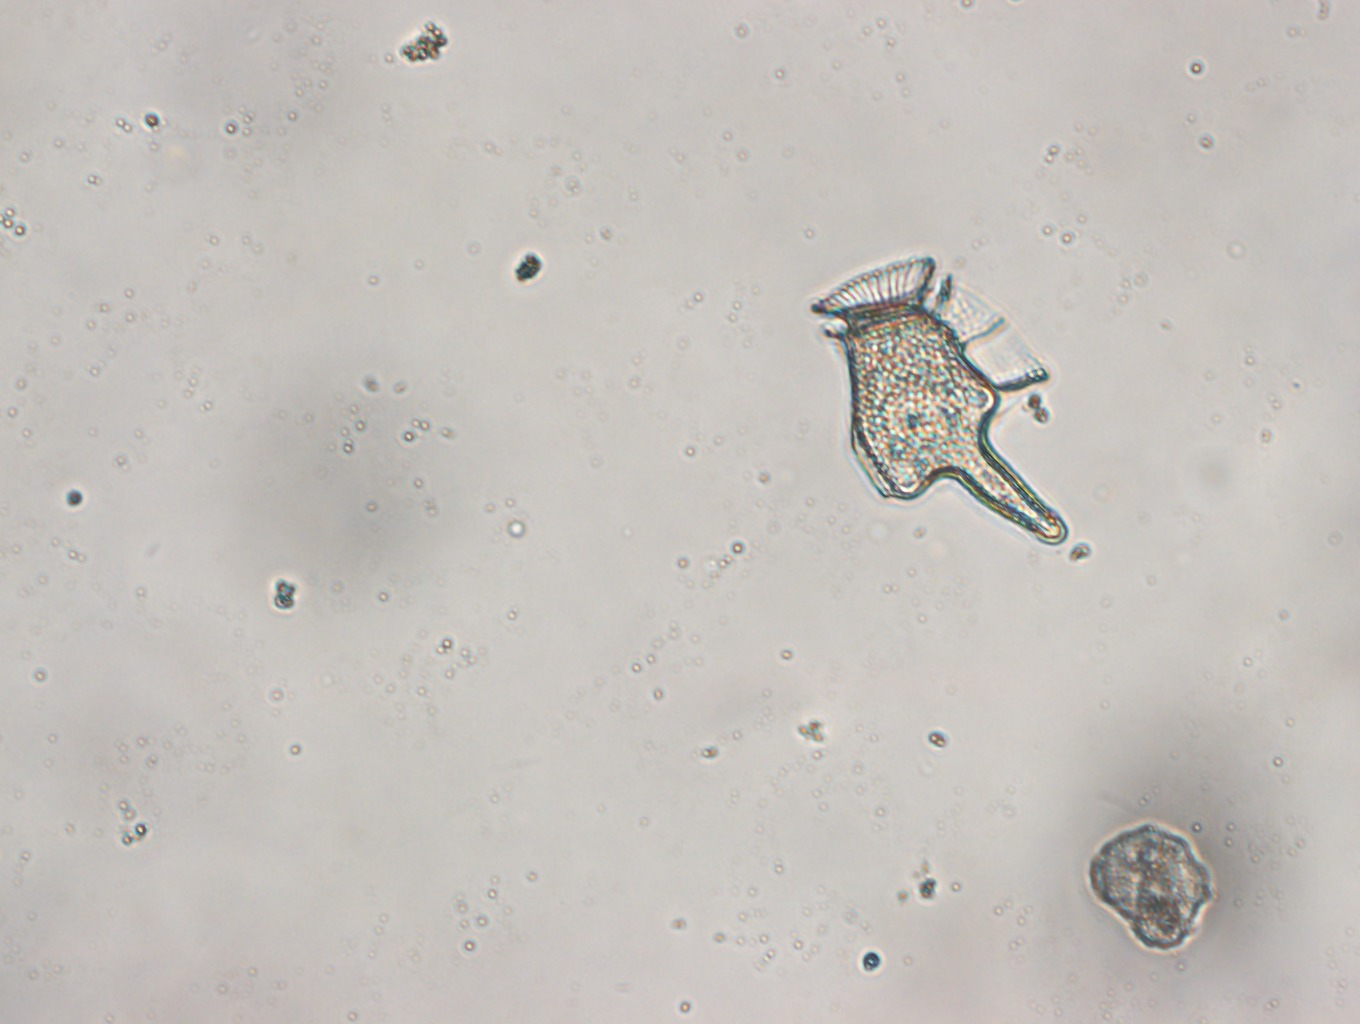dinophysis caudata: (805, 250, 1070, 550)
